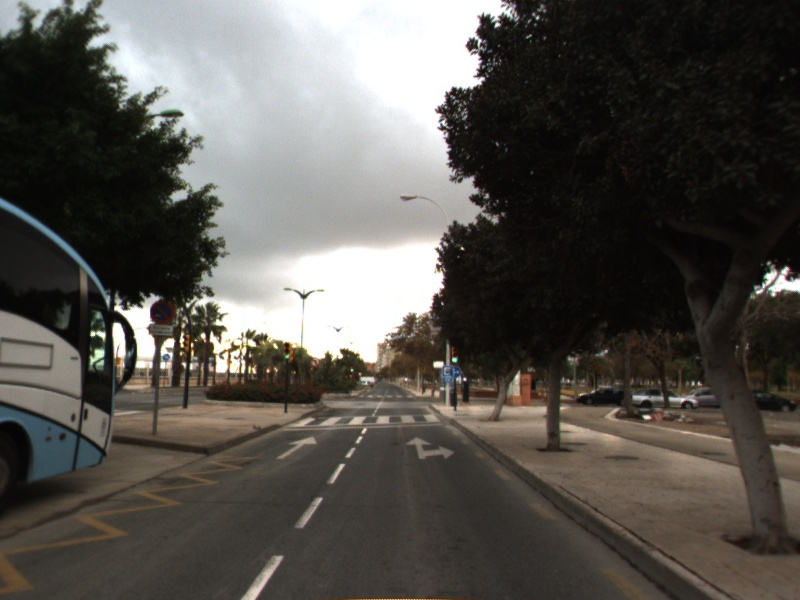STRAIGHT: (274, 434, 319, 461)
STRAIGHT_RIGHT: (404, 435, 458, 461)
